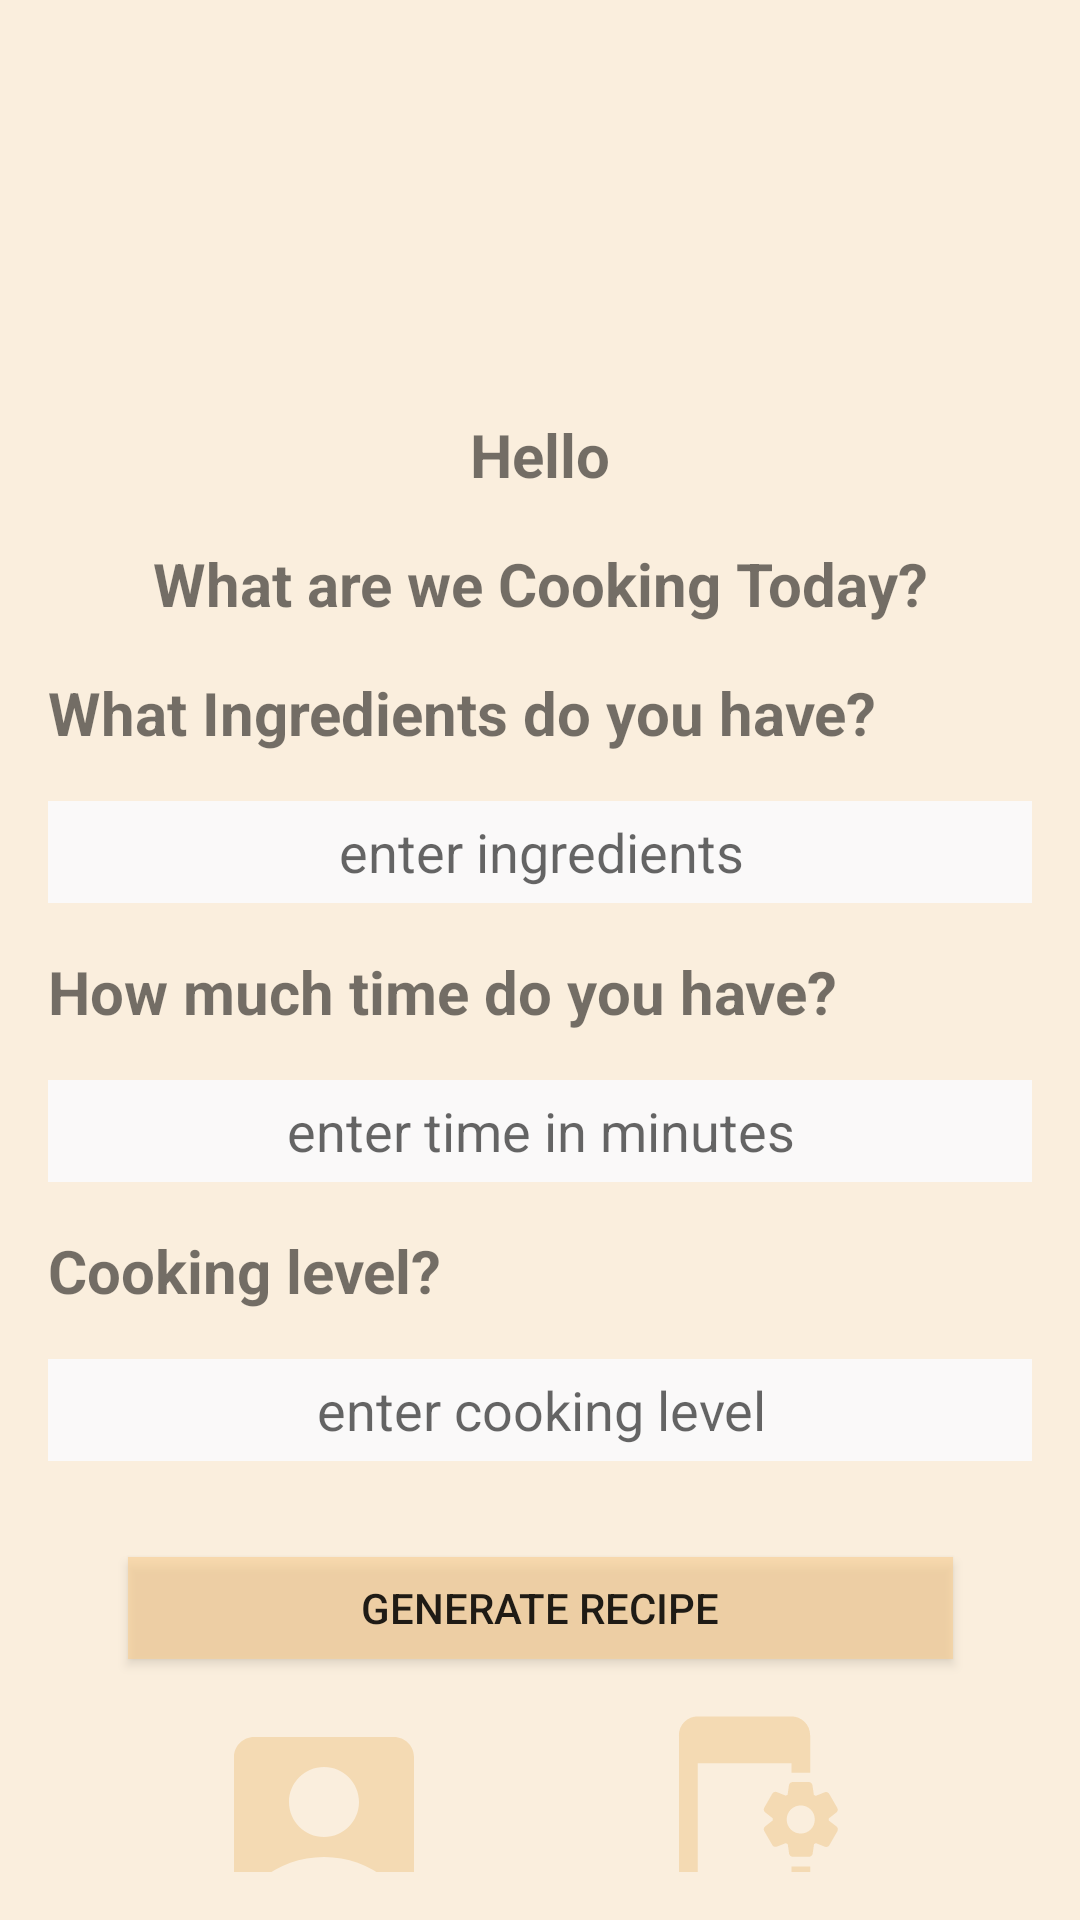

Locate icon controls on the screen. Image size 1080 x 1920, boxes as (x1, y1, x2, y2).
settings: (679, 1717, 838, 1872)
